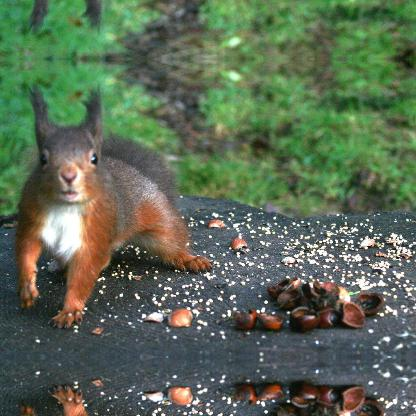Squirrel: (16, 78, 212, 328)
